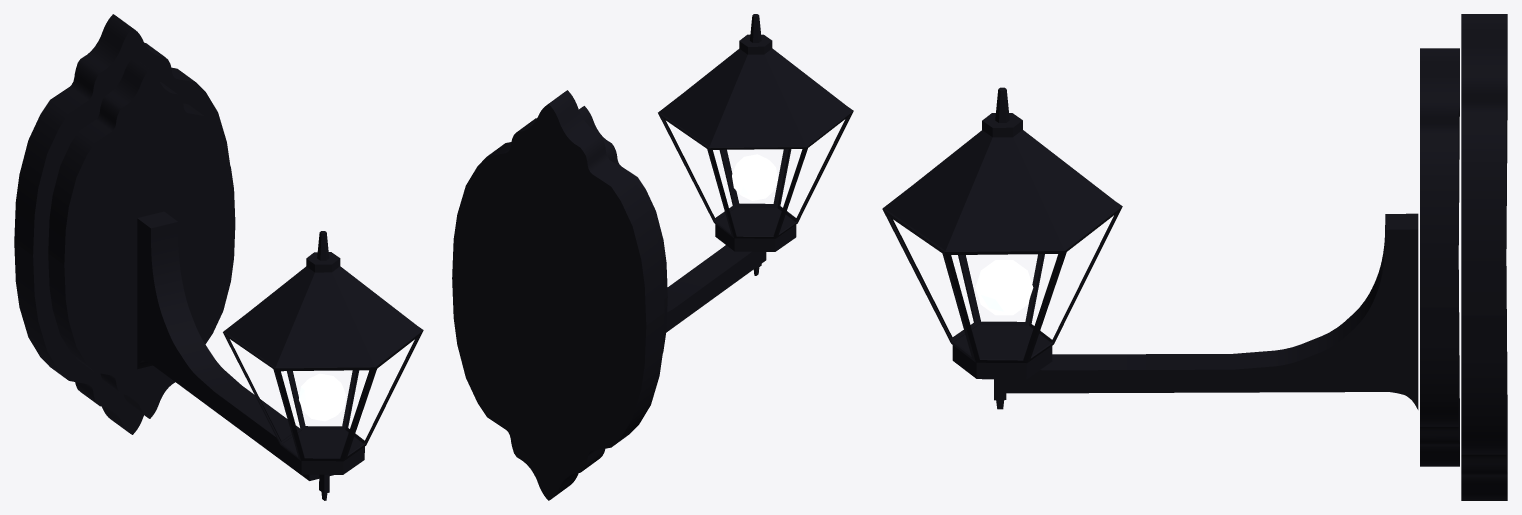
Rendered from light.fbx.
The picture shows the model from 3 angles, left to right: view 1: azimuth 30°, elevation 25°; view 2: azimuth 150°, elevation 25°; view 3: azimuth 270°, elevation 25°; orthographic projection. The views are drawn at different scales.
Parts seen in each view (by area): view 1: 平面.003, 柱体.004, 平面.002, 平面.004, 棱角球; view 2: 平面.002, 柱体.004, 平面.004, 棱角球, 平面.003; view 3: 柱体.004, 平面.004, 平面.002, 平面.003, 棱角球.
Part boxes in pixels (x1,y1,x2,y2): 平面.003: [48, 57, 235, 418]; 柱体.004: [223, 231, 423, 474]; 平面.002: [14, 14, 229, 434]; 平面.004: [137, 211, 333, 500]; 棱角球: [299, 373, 345, 421]; 平面.002: [452, 90, 664, 500]; 柱体.004: [658, 14, 853, 251]; 平面.004: [666, 245, 766, 332]; 棱角球: [732, 154, 777, 200]; 平面.003: [579, 106, 667, 352]; 柱体.004: [882, 87, 1122, 379]; 平面.004: [994, 213, 1418, 409]; 平面.002: [1461, 14, 1507, 500]; 平面.003: [1420, 48, 1459, 466]; 棱角球: [975, 260, 1033, 315].
Bounding box in the file's own units: 98.81 × 43.44 × 84.88.
